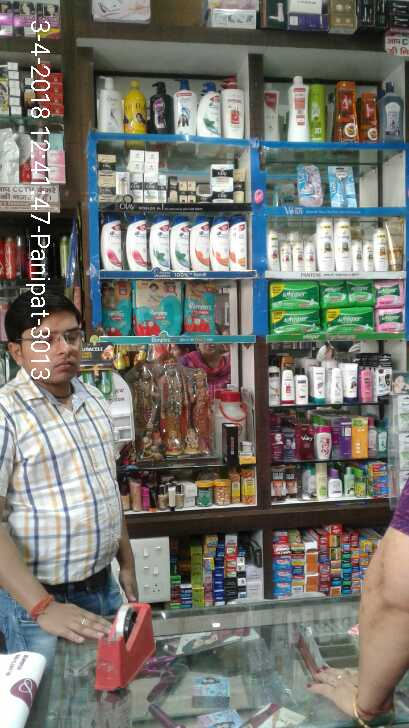venus: (328, 163, 358, 208), (297, 163, 322, 206)
